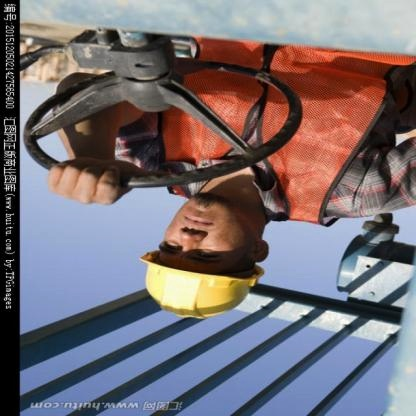vest: (133, 36, 395, 236)
yellow: (134, 252, 274, 326)
